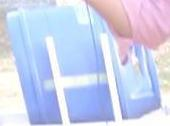cylinder: (1, 0, 170, 126)
